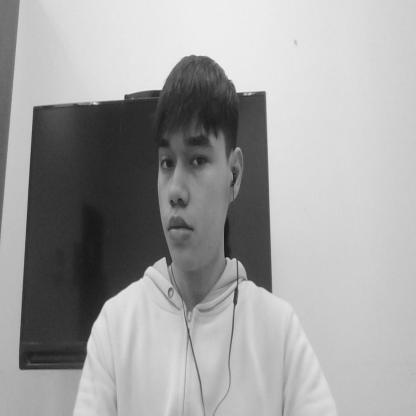Open-Eyes: (155, 129, 217, 185)
